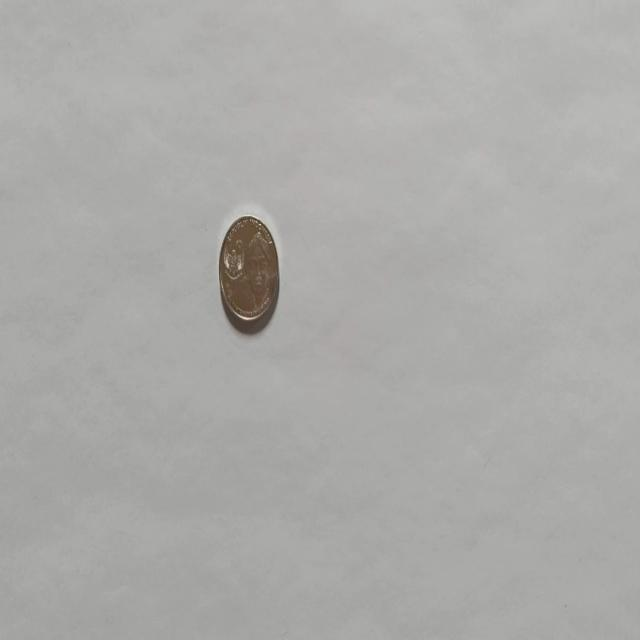dua ratus rupiah: (217, 212, 280, 334)
